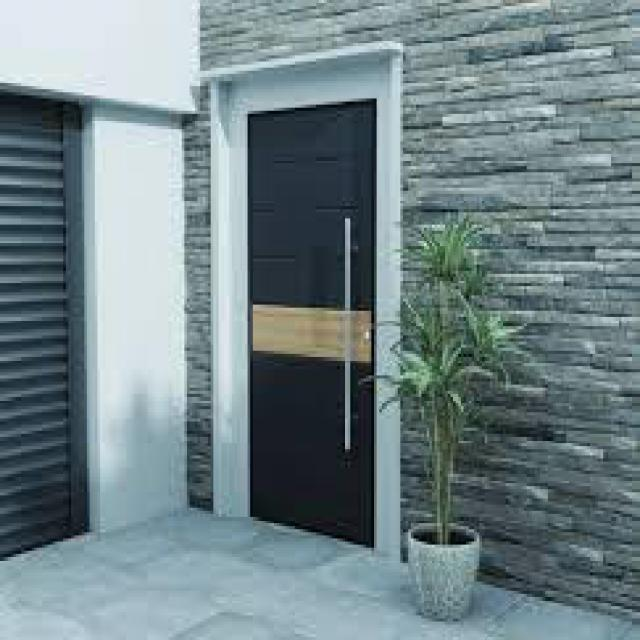close: (218, 83, 406, 563)
